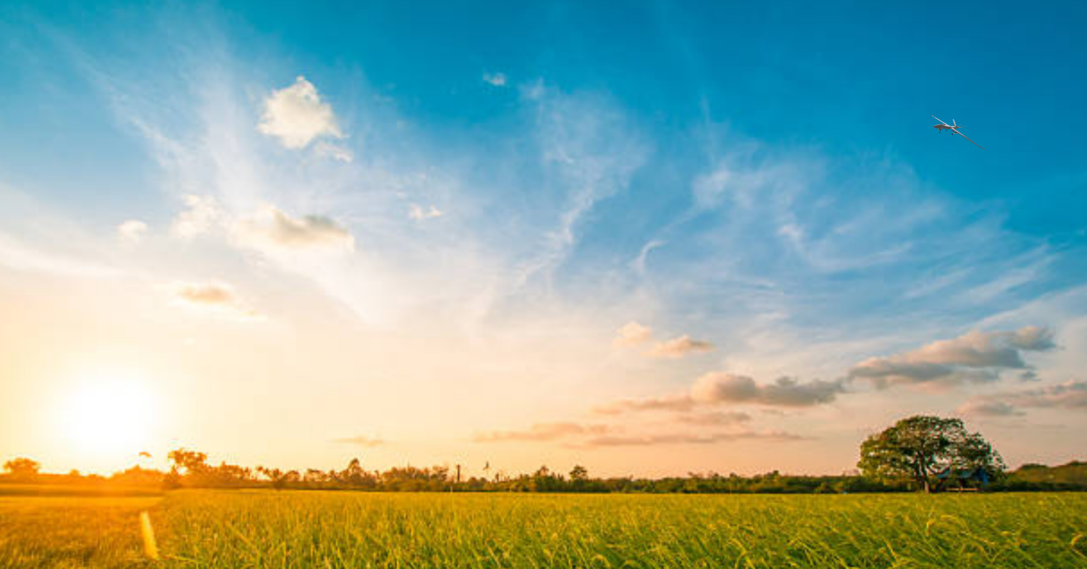military drone: (931, 114, 985, 150)
